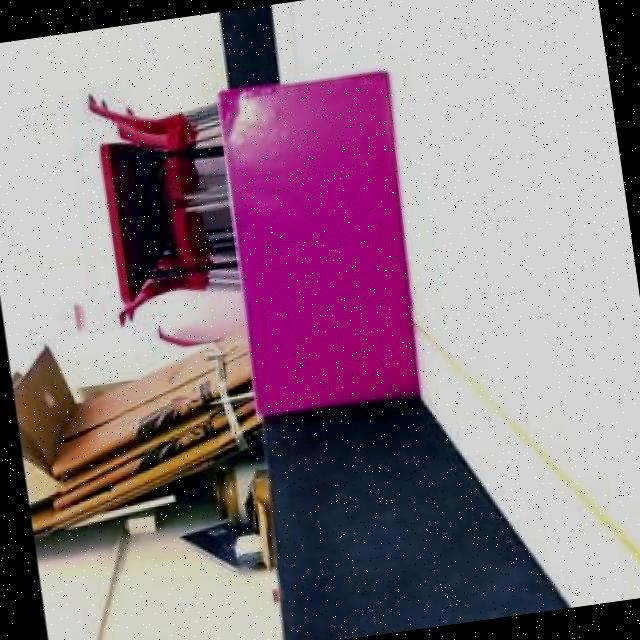xparking: (209, 65, 436, 418)
